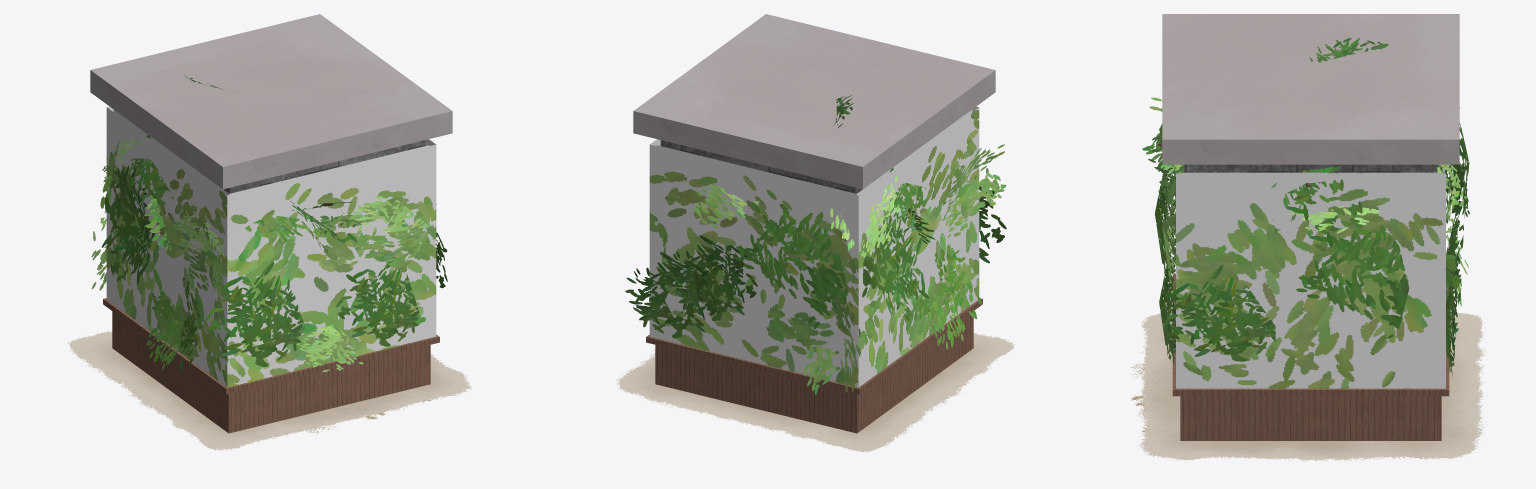
Rendered from map_all_3.fbx.
3 renders of one model, left to right at view 1: azimuth 30°, elevation 25°; view 2: azimuth 150°, elevation 25°; view 3: azimuth 270°, elevation 25°, orthographic. The views are drawn at different scales.
Visible parts, largest first — view 1: park_wall, stone_wall, tree_1; view 2: park_wall, stone_wall, tree_1; view 3: park_wall, stone_wall, tree_1.
Part boxes in pixels (box(x1,y1,x2,y2)): park_wall: box(91, 106, 447, 433); stone_wall: box(67, 14, 471, 450); tree_1: box(145, 75, 357, 252); park_wall: box(625, 106, 1006, 433); stone_wall: box(616, 14, 1014, 452); tree_1: box(833, 95, 935, 243); park_wall: box(1142, 97, 1469, 440); stone_wall: box(1137, 14, 1487, 461); tree_1: box(1148, 38, 1388, 247).
Size of the model in its own units: 3.34 by 3.24 by 3.34.
